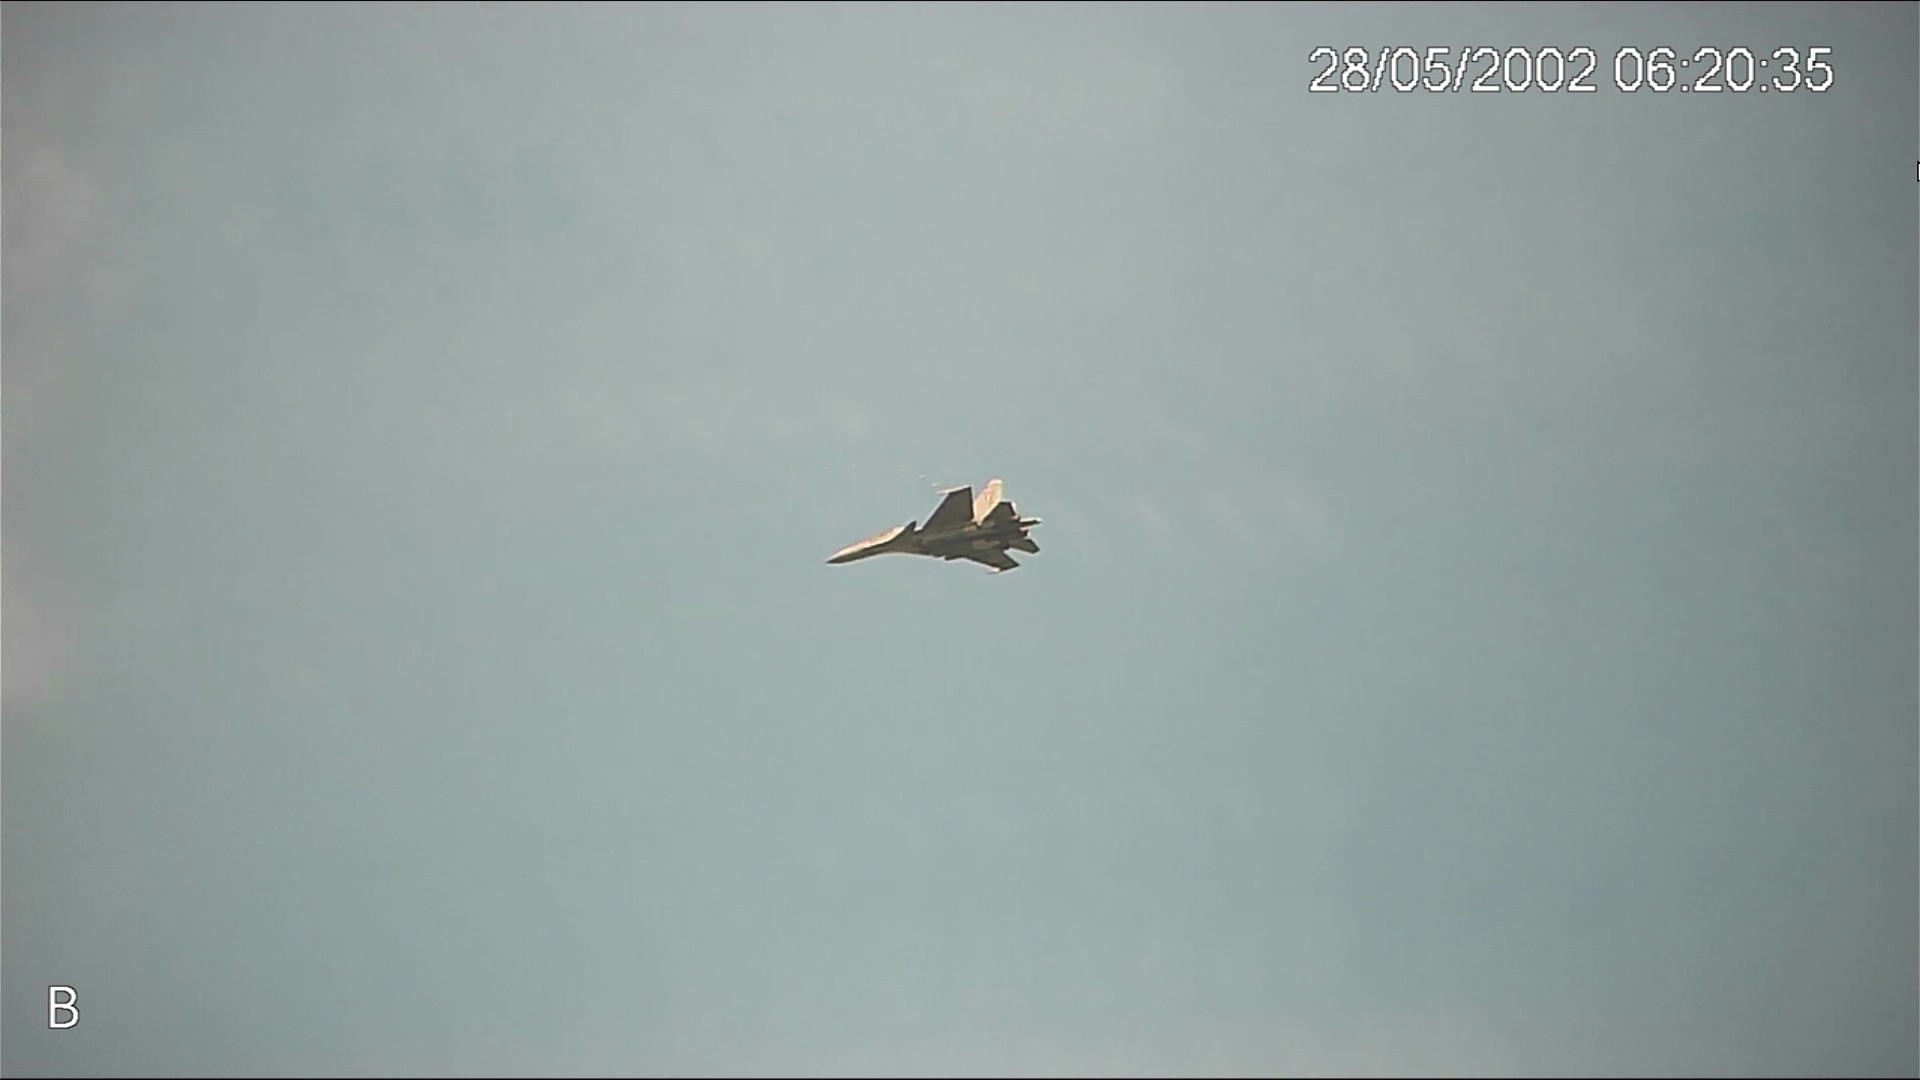SU_30: (823, 472, 1054, 583)
